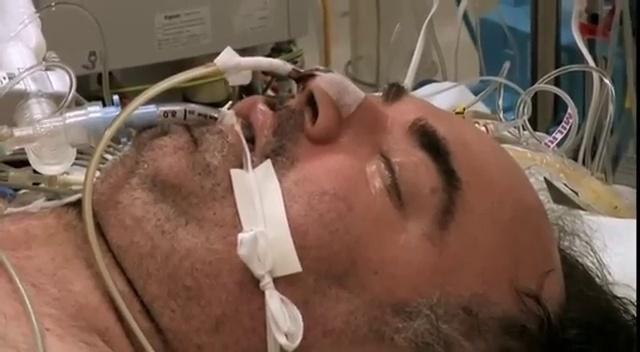patient: (0, 62, 635, 351)
